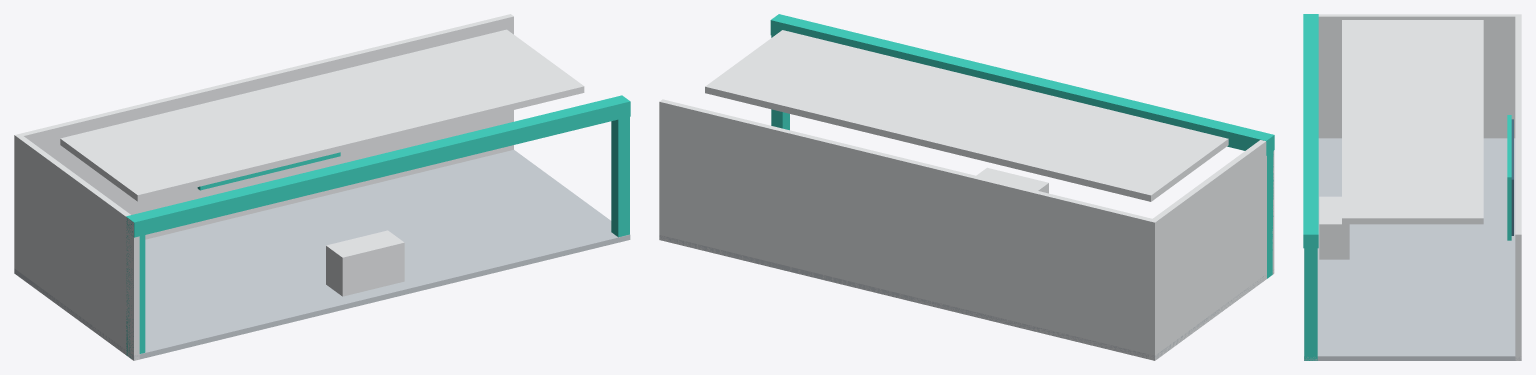
The picture shows the model from 3 angles, left to right: view 1: azimuth 30°, elevation 25°; view 2: azimuth 150°, elevation 25°; view 3: azimuth 270°, elevation 25°; orthographic projection. The views are drawn at different scales.
Visible parts, largest first — view 1: Exhibition Booth Concept; view 2: Exhibition Booth Concept; view 3: Exhibition Booth Concept.
Part boxes in pixels (x1,y1,x2,y2): Exhibition Booth Concept: (14,14,630,360); Exhibition Booth Concept: (659,14,1274,360); Exhibition Booth Concept: (1303,14,1521,360).
Bounding box in the file's own units: 12 × 3.34 × 5.02.
